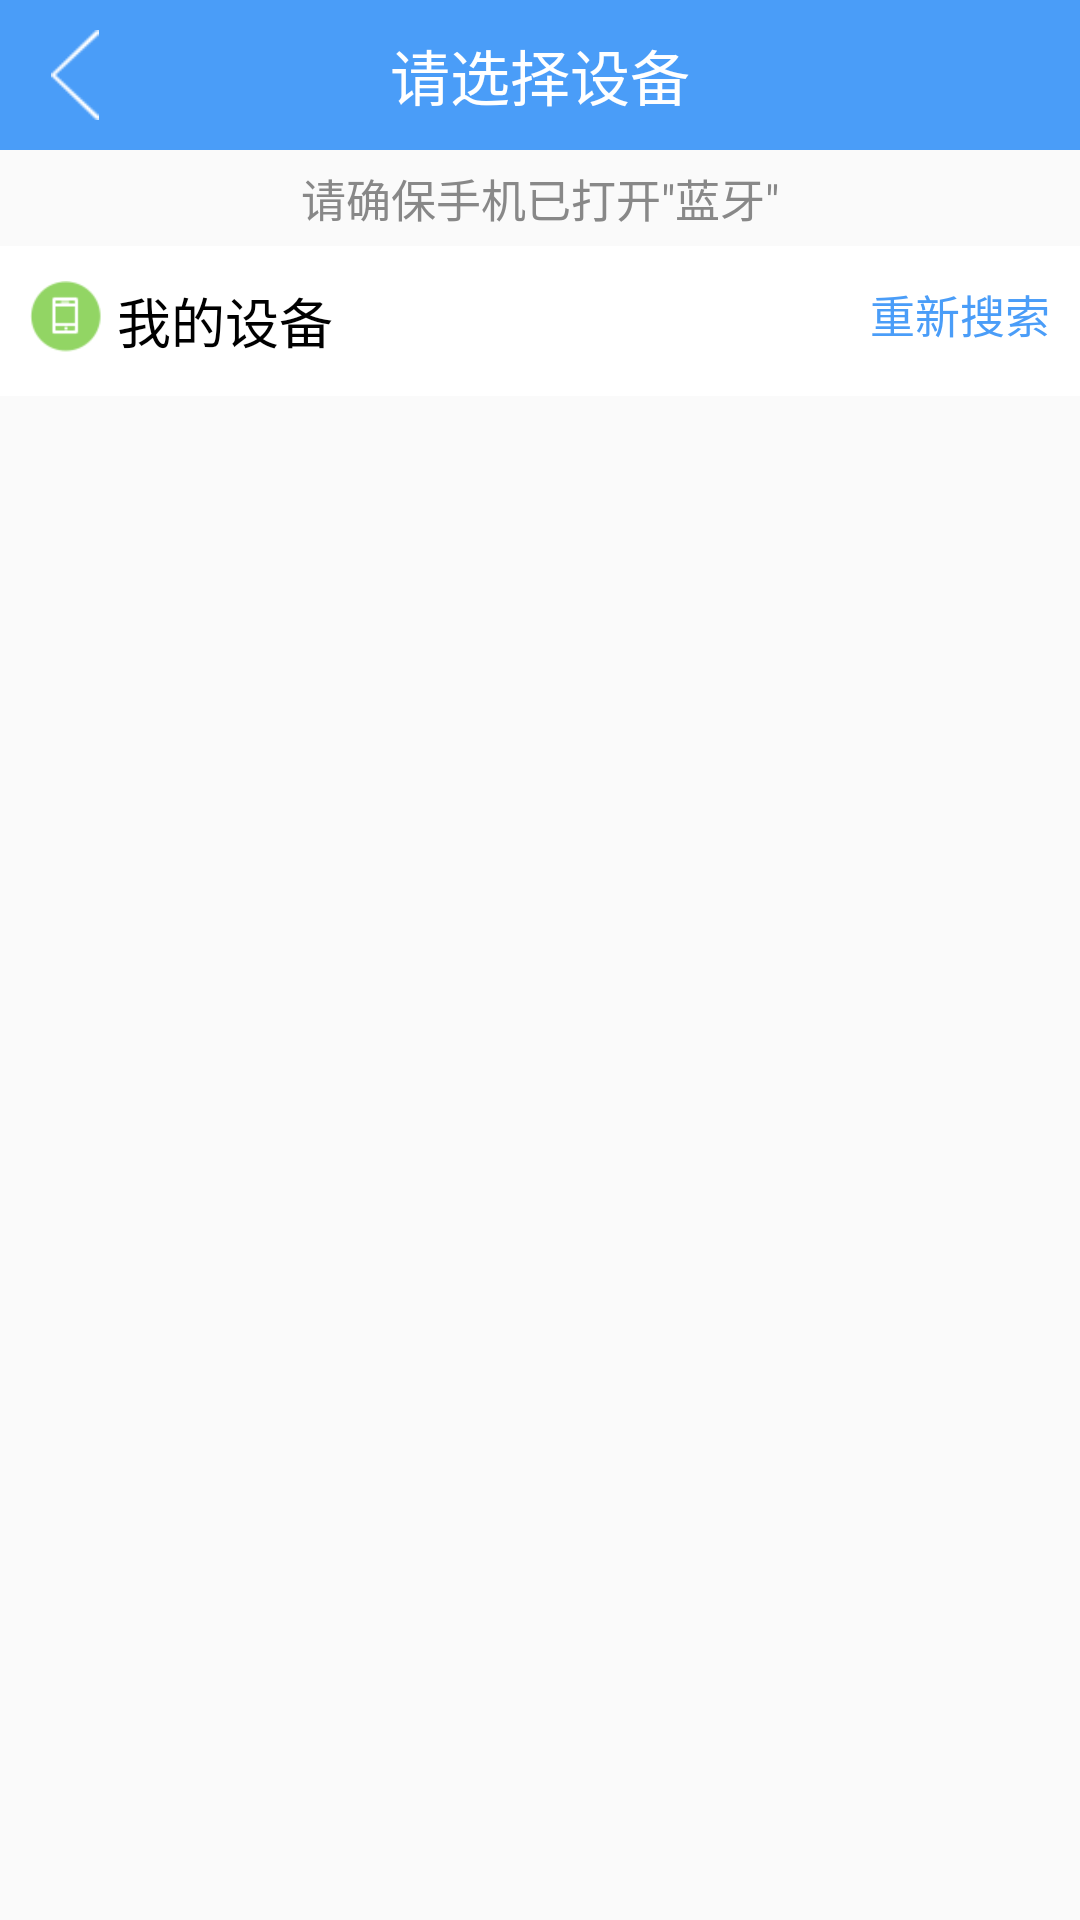

Point at icon controls on the screen. Image size 1080w x 1920h, points as point (x, y).
phonegreen: point (66, 316)
